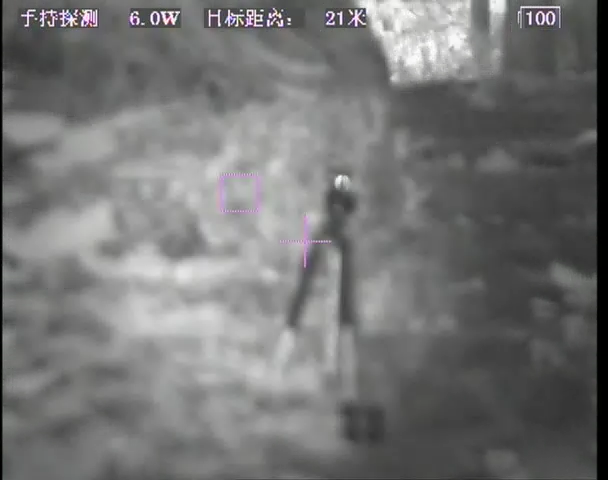my: (330, 171, 354, 195)
